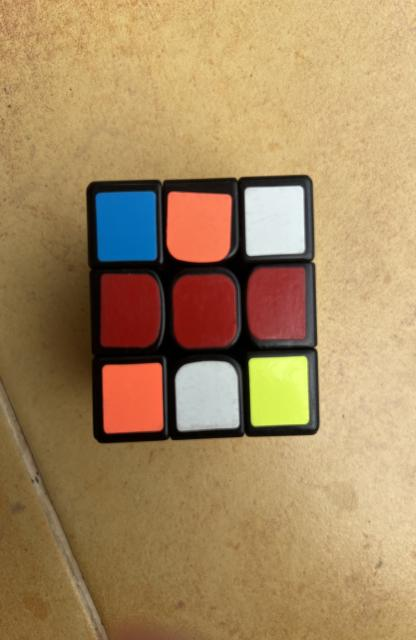Blue: (95, 191, 157, 261)
Orange: (167, 191, 232, 262), (102, 362, 164, 434)
Red: (172, 274, 237, 349), (100, 274, 160, 348), (247, 268, 306, 340)
White: (174, 360, 239, 432), (245, 185, 306, 256)
Yellow: (248, 356, 310, 426)
